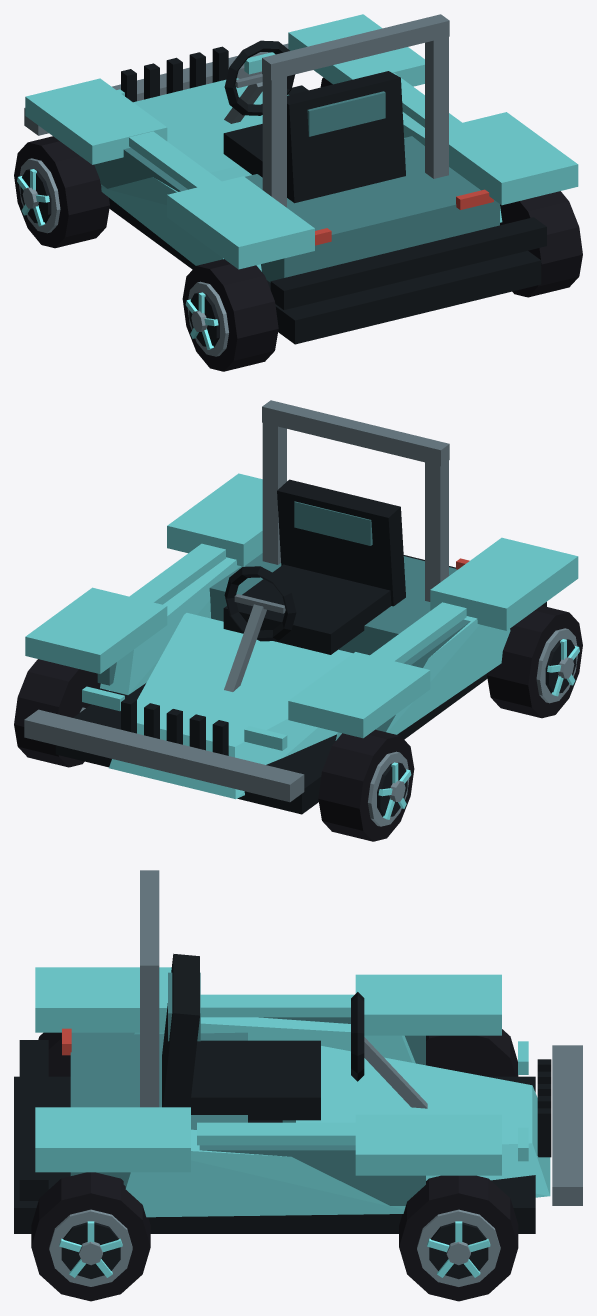
The model's file is kart.glb.
The picture shows the model from 3 angles, top to bottom: view 1: azimuth 30°, elevation 25°; view 2: azimuth 150°, elevation 25°; view 3: azimuth 270°, elevation 25°; orthographic projection. The views are drawn at different scales.
Visible parts, largest first — view 1: chassis, wheel-rear-left, wheel-front-left, wheel-rear-right; view 2: chassis, wheel-front-left, wheel-rear-left, wheel-front-right; view 3: chassis, wheel-front-right, wheel-rear-right, wheel-front-left, wheel-rear-left.
Boxes of the visible parts, <box> form: chassis: <box>24,14,578,344</box>; wheel-rear-left: <box>182,259,278,371</box>; wheel-front-left: <box>14,136,109,248</box>; wheel-rear-right: <box>500,191,582,297</box>; chassis: <box>24,400,578,814</box>; wheel-front-left: <box>318,729,414,841</box>; wheel-rear-left: <box>487,605,582,718</box>; wheel-front-right: <box>14,659,108,767</box>; chassis: <box>14,870,582,1233</box>; wheel-front-right: <box>399,1175,518,1301</box>; wheel-rear-right: <box>31,1172,150,1301</box>; wheel-front-left: <box>426,1029,518,1076</box>; wheel-rear-left: <box>38,1032,70,1076</box>.
Size of the model in its own units: 2.43 by 1.67 by 2.96.
